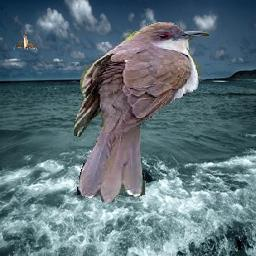Cuckoo: (73, 22, 210, 203)
Swallow: (13, 32, 37, 50)
